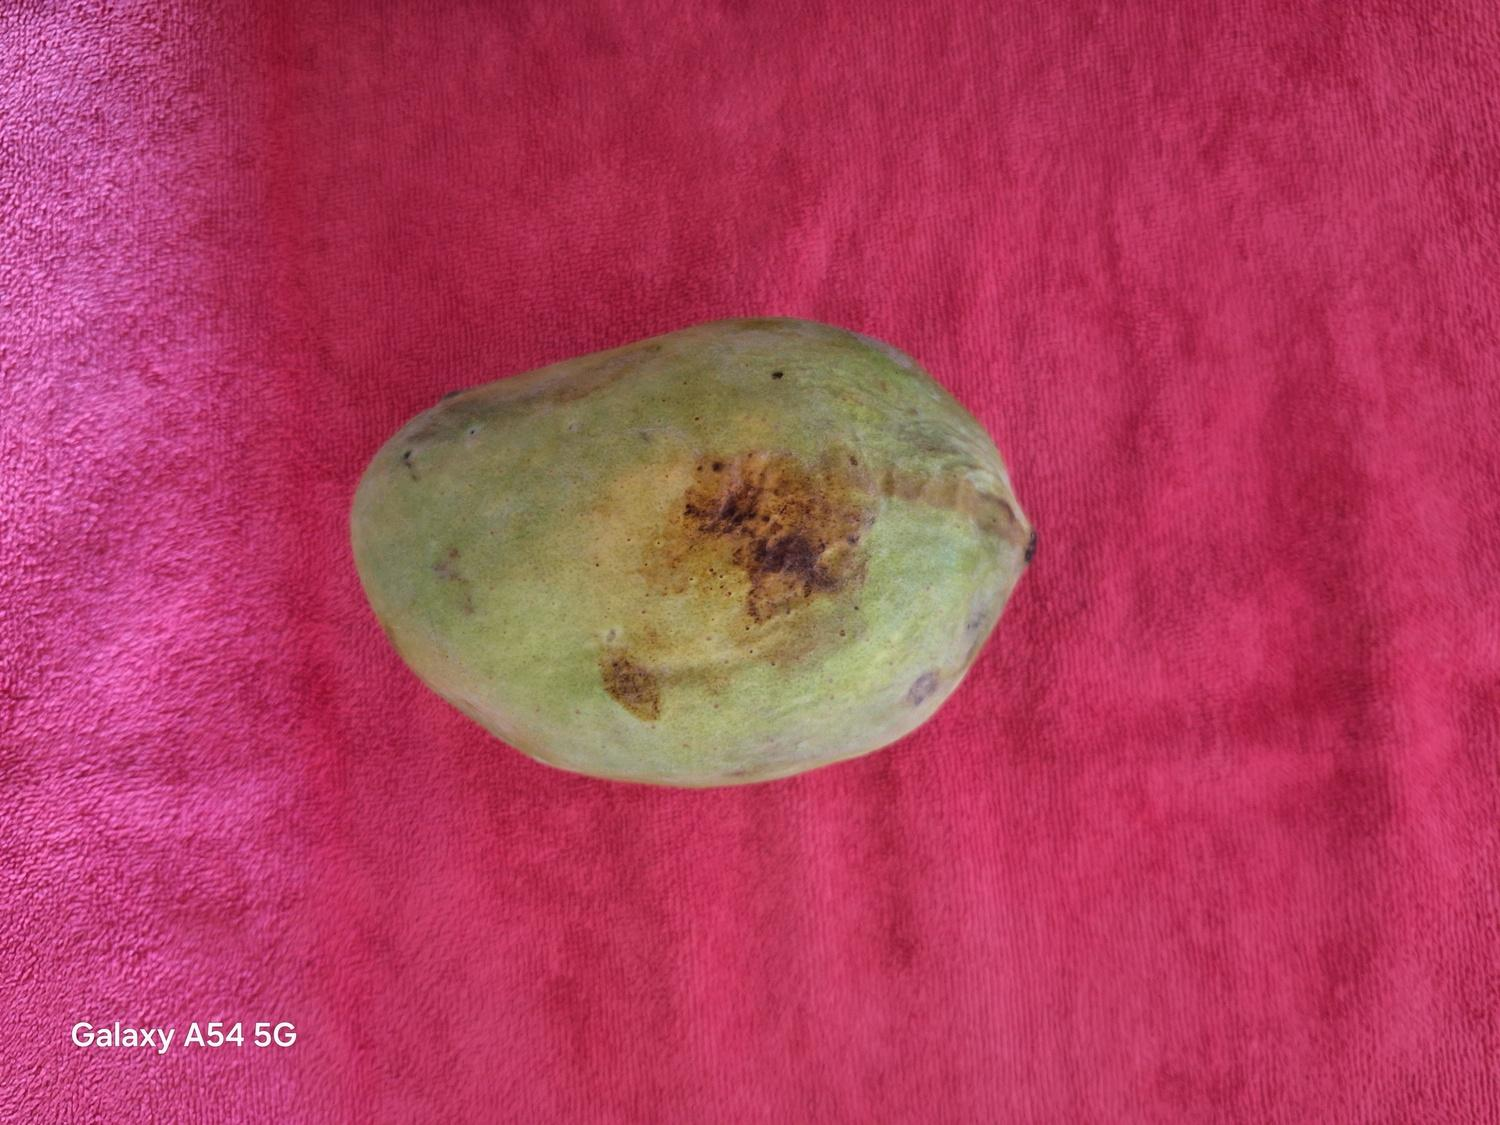mango: (348, 313, 1037, 789)
